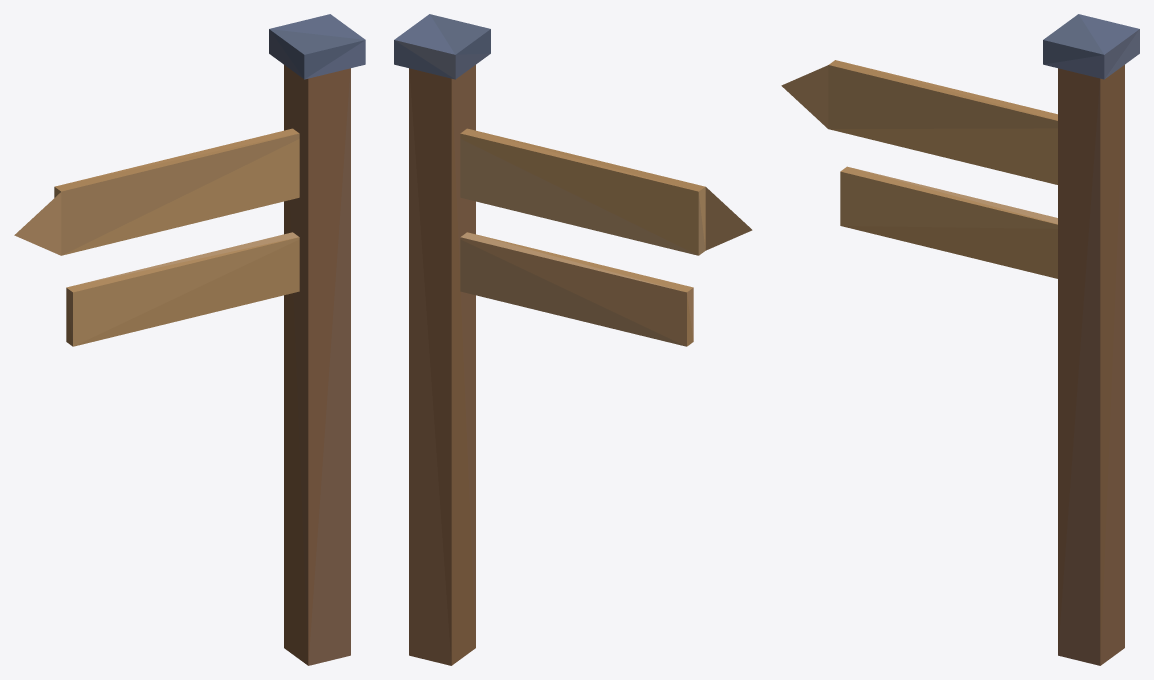
File: HK_GuidePost.lod.glb
3 views of the same model, side by side, from view 1: azimuth 30°, elevation 25°; view 2: azimuth 150°, elevation 25°; view 3: azimuth 330°, elevation 25° (orthographic).
Parts seen in each view (by area): view 1: HK_GuidePost; view 2: HK_GuidePost; view 3: HK_GuidePost.
Boxes of the visible parts, x1=… form: HK_GuidePost: x1=14, y1=14, x2=365, y2=665; HK_GuidePost: x1=394, y1=14, x2=752, y2=665; HK_GuidePost: x1=781, y1=14, x2=1139, y2=665.
Bounding box in the file's own units: 1.43 × 2.5 × 0.26.
